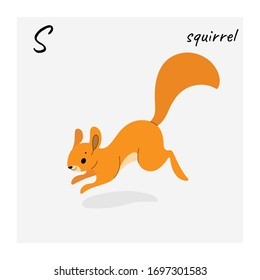animal: (62, 54, 215, 195)
